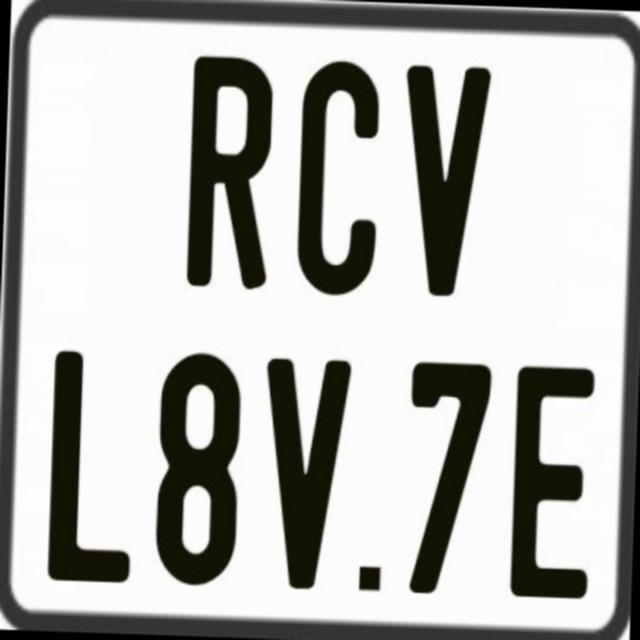7: (402, 358, 490, 596)
8: (150, 352, 246, 586)
C: (296, 56, 382, 300)
E: (508, 366, 602, 602)
L: (46, 350, 136, 582)
R: (182, 51, 270, 288)
V: (260, 357, 358, 598), (398, 66, 491, 302)
